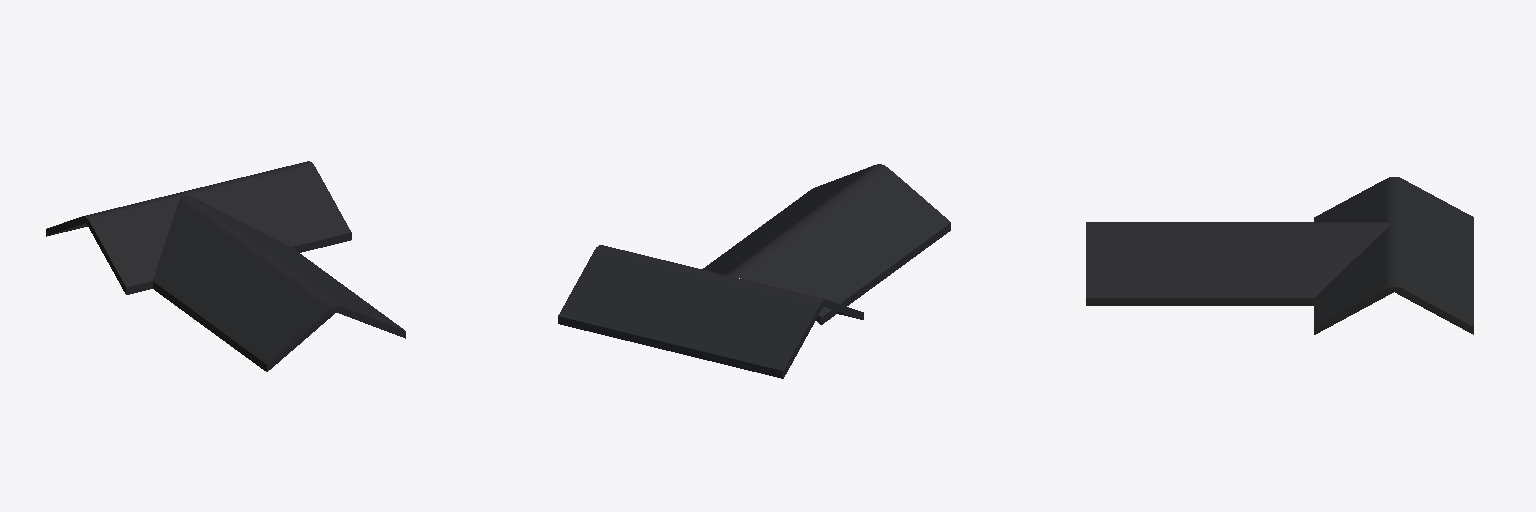
The model's file is groof.obj.
The picture shows the model from 3 angles: view 1: azimuth 30°, elevation 25°; view 2: azimuth 150°, elevation 25°; view 3: azimuth 270°, elevation 25°; orthographic projection.
Parts seen in each view (by area): view 1: HouseRoof.002; view 2: HouseRoof.002; view 3: HouseRoof.002.
Part boxes in pixels (x1,y1,x2,y2): HouseRoof.002: (46,161,405,371); HouseRoof.002: (558,164,950,378); HouseRoof.002: (1086,177,1473,334).
Size of the model in its own units: 17.91 by 3.7 by 26.75.